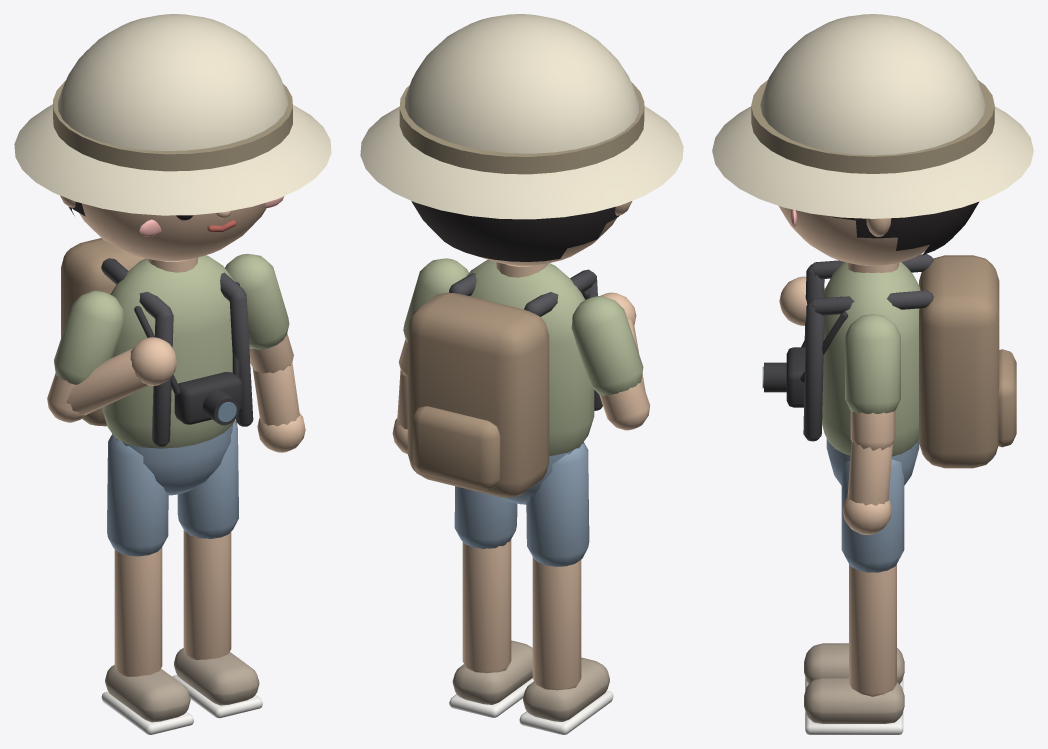
File: Customer_Hiker.fbx
3 views of the same model, side by side, from view 1: azimuth 30°, elevation 25°; view 2: azimuth 150°, elevation 25°; view 3: azimuth 270°, elevation 25° (orthographic).
Parts seen in each view (by area): view 1: Head.006, Body.006, Leg_L.006, Leg_R.006, Arm_L.006, Arm_R.006; view 2: Head.006, Body.006, Leg_L.006, Leg_R.006, Arm_L.006, Arm_R.006; view 3: Head.006, Body.006, Leg_R.006, Arm_R.006, Leg_L.006, Arm_L.006.
Boxes of the visible parts, box(x1,y1,x2,y2) form: Head.006: box(14, 14, 331, 261); Body.006: box(61, 238, 253, 495); Leg_L.006: box(101, 435, 193, 734); Leg_R.006: box(172, 420, 262, 718); Arm_L.006: box(47, 290, 176, 422); Arm_R.006: box(225, 253, 305, 452); Head.006: box(360, 14, 683, 265); Body.006: box(407, 260, 602, 504); Leg_L.006: box(519, 442, 613, 734); Leg_R.006: box(449, 486, 533, 717); Arm_L.006: box(571, 292, 650, 430); Arm_R.006: box(392, 258, 468, 453); Head.006: box(712, 14, 1033, 265); Body.006: box(762, 254, 1016, 485); Leg_R.006: box(804, 459, 904, 734); Arm_R.006: box(842, 314, 900, 534); Leg_L.006: box(804, 643, 904, 690); Arm_L.006: box(779, 276, 825, 325).
Bounding box in the file's own units: 0.56 × 1.31 × 0.56.
